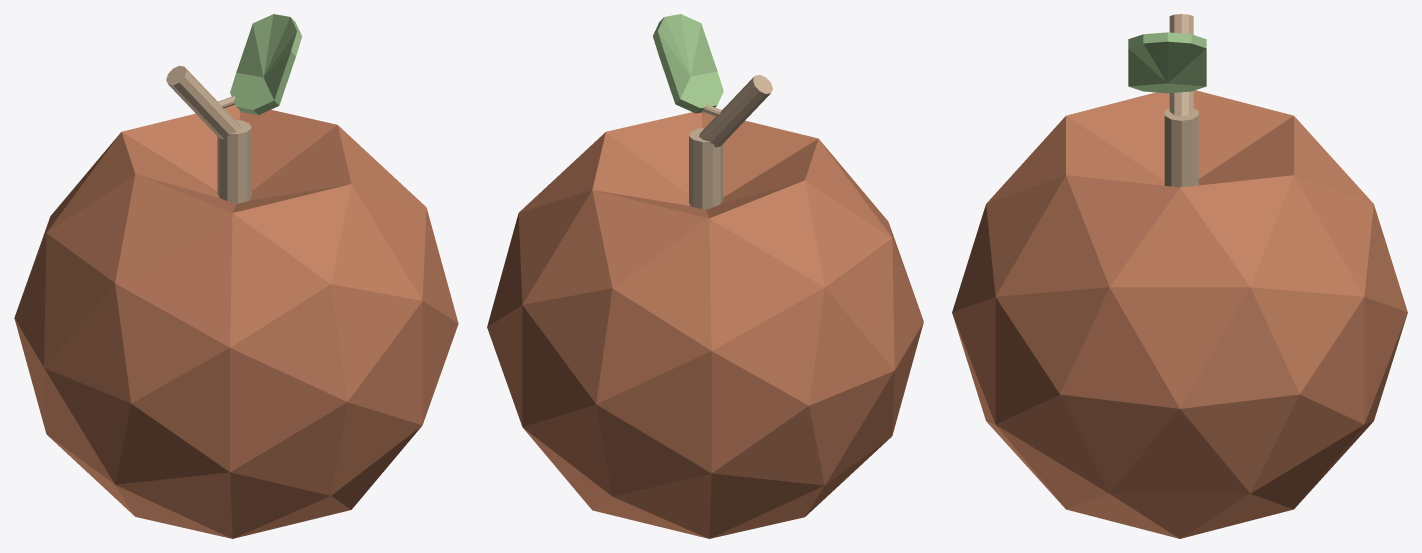
Rendered from food5.fbx.
The picture shows the model from 3 angles, left to right: view 1: azimuth 30°, elevation 25°; view 2: azimuth 150°, elevation 25°; view 3: azimuth 270°, elevation 25°; orthographic projection. The views are drawn at different scales.
Parts seen in each view (by area): view 1: Cylinder_5; view 2: Cylinder_5; view 3: Cylinder_5.
Part boxes in pixels (x1,y1,x2,y2): Cylinder_5: (14, 14, 458, 538); Cylinder_5: (487, 14, 923, 538); Cylinder_5: (952, 14, 1407, 538).
Bounding box in the file's own units: 14.46 × 16.8 × 14.46.
